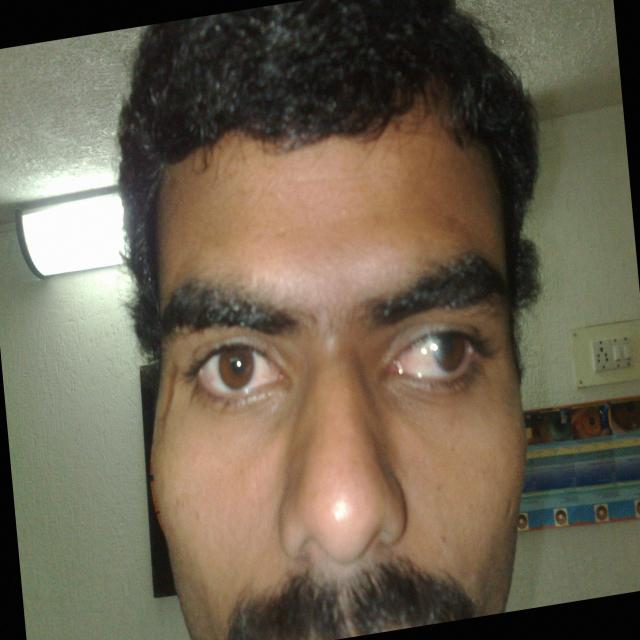Healthy-Eye: (180, 329, 310, 426)
Squint: (374, 311, 491, 402)
